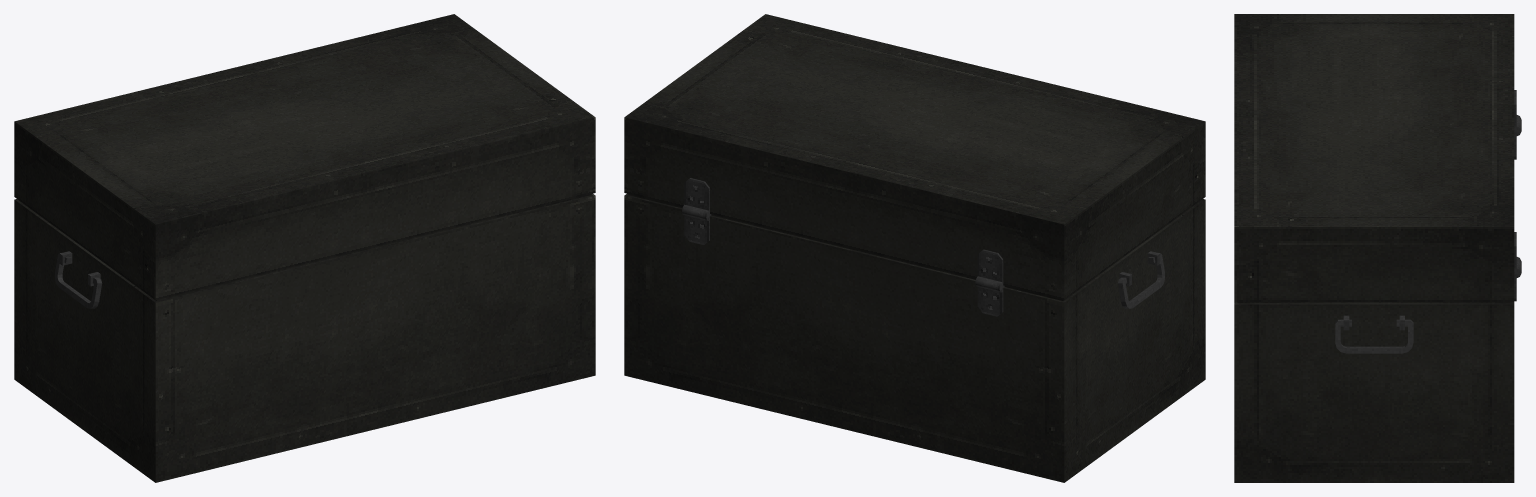
Rendered from wooden_crate_2_b.glb.
3 renders of one model, left to right at view 1: azimuth 30°, elevation 25°; view 2: azimuth 150°, elevation 25°; view 3: azimuth 270°, elevation 25°, orthographic.
Parts seen in each view (by area): view 1: wooden_crate_2_b, wooden_crate_2_b_lid; view 2: wooden_crate_2_b, wooden_crate_2_b_lid; view 3: wooden_crate_2_b_lid, wooden_crate_2_b.
Part boxes in pixels (bbox=[...]): wooden_crate_2_b: bbox=[14, 193, 595, 482]; wooden_crate_2_b_lid: bbox=[14, 14, 595, 300]; wooden_crate_2_b: bbox=[624, 193, 1205, 482]; wooden_crate_2_b_lid: bbox=[624, 14, 1205, 300]; wooden_crate_2_b_lid: bbox=[1234, 14, 1516, 303]; wooden_crate_2_b: bbox=[1234, 115, 1521, 482].
Bounding box in the file's own units: 0.9492 × 0.505 × 0.513.
1 material, 1 textured.
